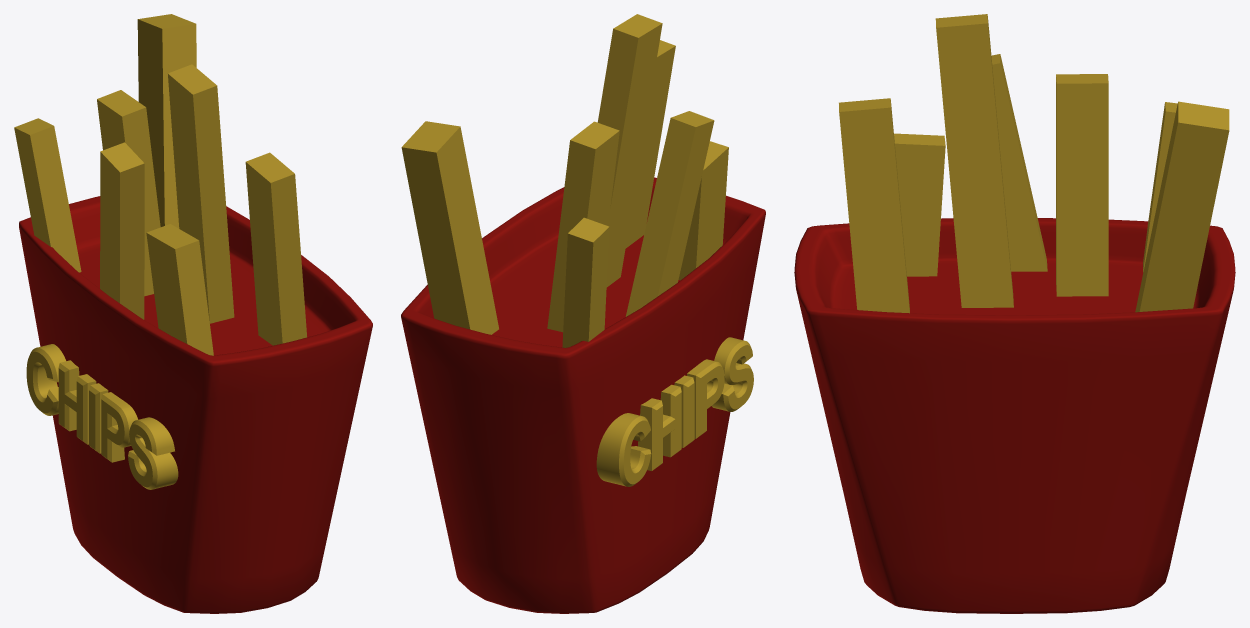
Rendered from Chips_store_brand.FBX.
3 renders of one model, left to right at view 1: azimuth 30°, elevation 25°; view 2: azimuth 150°, elevation 25°; view 3: azimuth 270°, elevation 25°, orthographic. The views are drawn at different scales.
Parts seen in each view (by area): view 1: Box003, Box006, TextPlus005, Box007, Box009, Box004, Box008, Box010, Box005; view 2: Box003, Box004, TextPlus005, Box006, Box009, Box005, Box010, Box008, Box007; view 3: Box003, Box006, Box004, Box005, Box007, Box008, Box009, Box010.
Part boxes in pixels (box(x1,y1,x2,y2)): Box003: box(19, 196, 372, 613); Box006: box(168, 64, 234, 323); TextPlus005: box(26, 344, 178, 489); Box007: box(245, 152, 306, 345); Box009: box(100, 142, 144, 319); Box004: box(137, 14, 196, 228); Box008: box(146, 224, 213, 355); Box010: box(14, 118, 81, 272); Box005: box(97, 90, 160, 296); Box003: box(401, 177, 765, 613); Box004: box(401, 121, 498, 334); TextPlus005: box(596, 337, 753, 486); Box006: box(597, 14, 662, 287); Box009: box(625, 111, 714, 316); Box005: box(547, 121, 619, 332); Box010: box(562, 217, 609, 347); Box008: box(678, 141, 728, 280); Box007: box(625, 40, 675, 248); Box003: box(794, 218, 1235, 613); Box006: box(935, 14, 1013, 307); Box004: box(1135, 101, 1229, 312); Box005: box(1056, 74, 1108, 296); Box007: box(839, 98, 909, 313); Box008: box(894, 133, 945, 276); Box009: box(991, 54, 1047, 271); Box010: box(1143, 102, 1177, 271).
Bounding box in the file's own units: 78.04 × 190 × 137.
